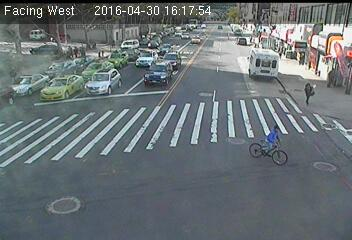neg: (250, 124, 286, 172), (195, 29, 207, 46), (157, 61, 169, 77), (214, 22, 224, 35), (96, 48, 106, 60), (79, 73, 87, 84), (133, 27, 140, 37)
pos: (295, 79, 316, 107), (70, 44, 81, 58), (65, 44, 75, 56), (277, 46, 285, 57)
